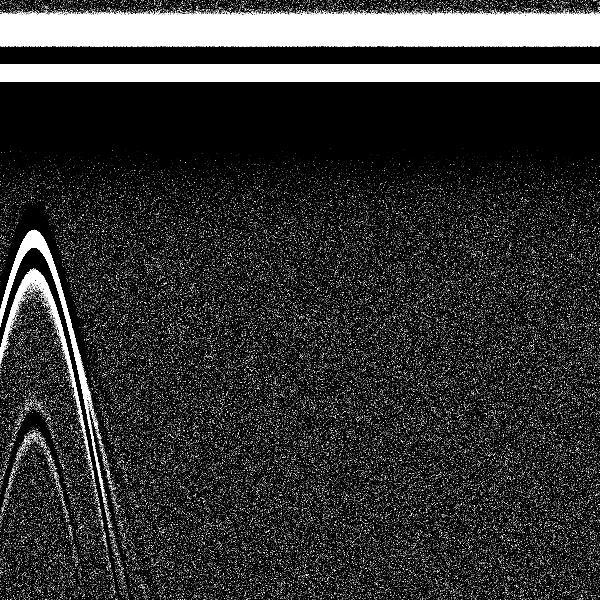pipe: (1, 4, 84, 322)
